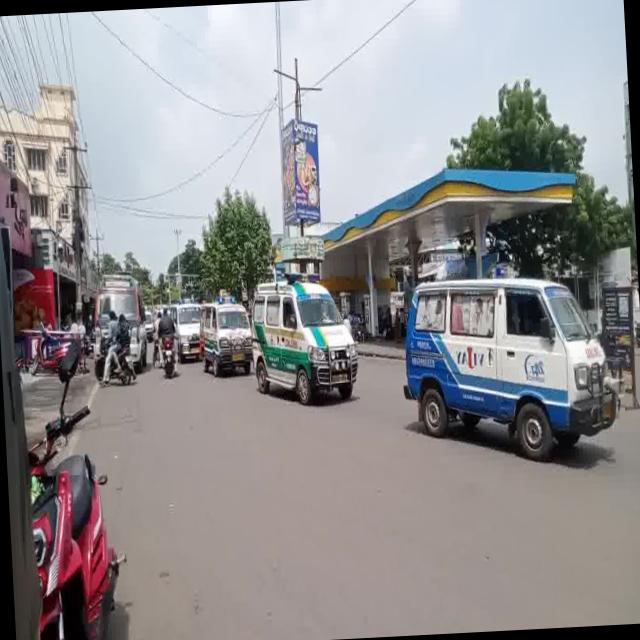ambulance: (393, 253, 624, 473), (246, 258, 367, 414), (195, 280, 246, 410), (166, 268, 211, 374), (83, 264, 150, 324)
